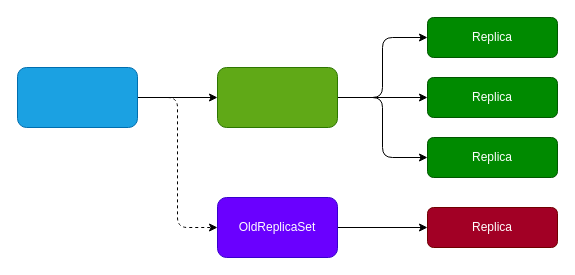
Some shapes in this 575 by 275 pixel diagram are drawn without their labels. The shapes that lost their labels are listed below. From the top down, each one's centre as x and y in pixels, then its label:
At [77,97]: "Deployment".
At [277,97]: "NewReplicaSet".
